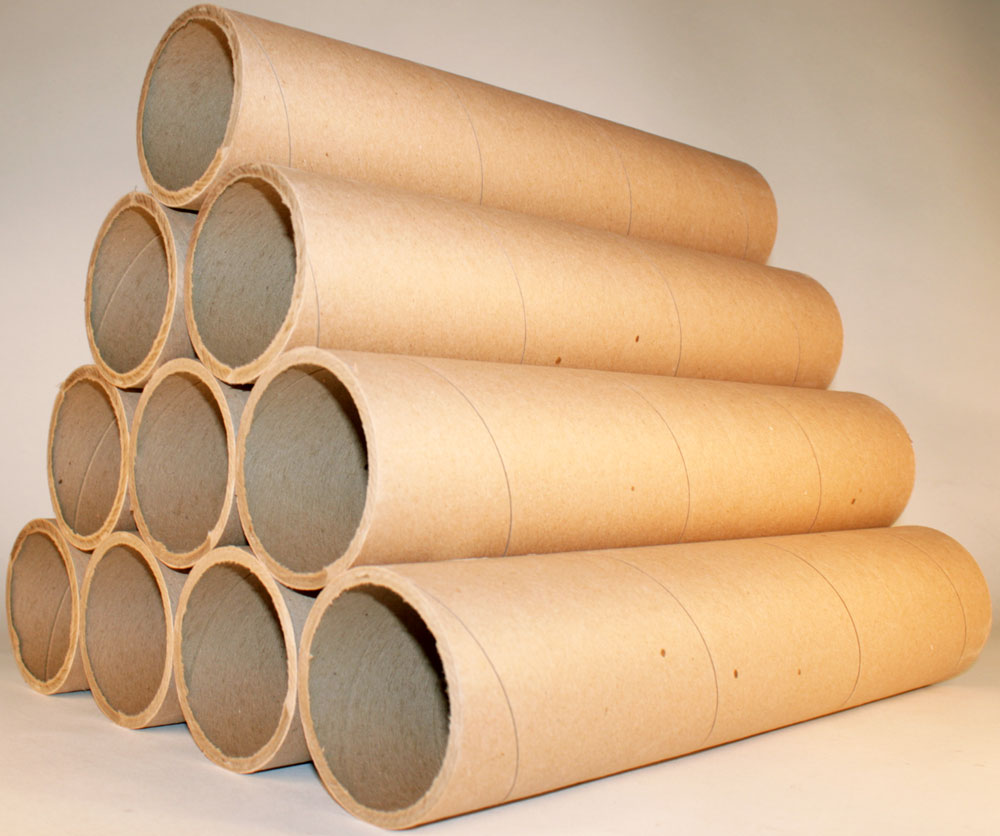Rec_Paper: (9, 2, 989, 825), (276, 548, 990, 801), (160, 1, 793, 265), (215, 342, 926, 544)
